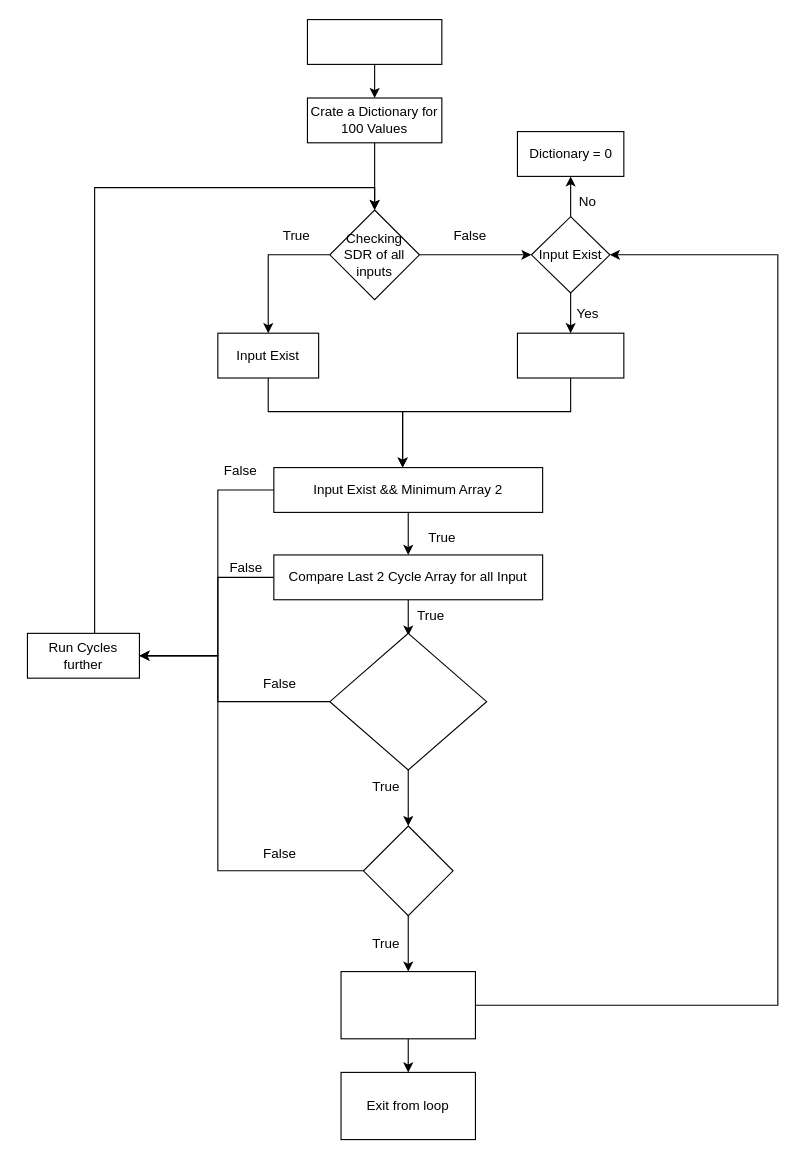
This 806x1159 diagram has some shape labels left out. Each missing label, with the centre of its shape:
"100 Random Input Values" belongs at (374,41).
"Add values in Dictionary" belongs at (407,1004).
"Compare Last 2 Cycles All Array values for all Input" belongs at (408,701).
"Count for Cycles 50" belongs at (407,870).
"Dictionary = 1 (Create Array)" belongs at (570,355).
